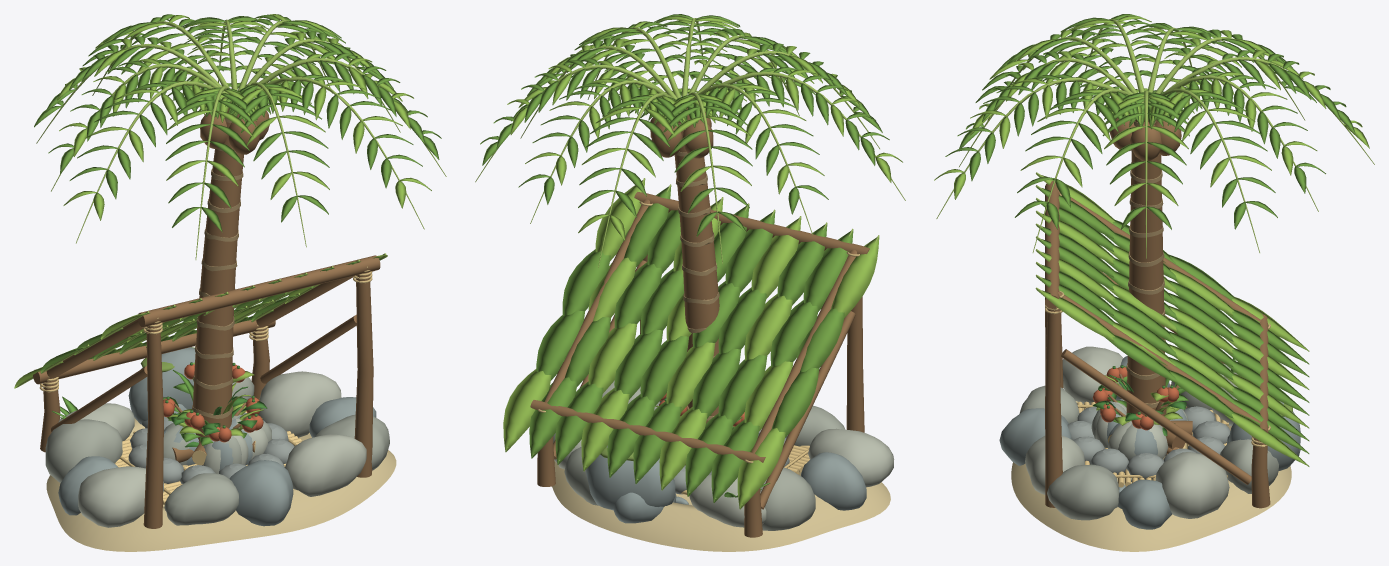
Rendered from survival-props-12.glb.
The picture shows the model from 3 angles, left to right: view 1: azimuth 30°, elevation 25°; view 2: azimuth 150°, elevation 25°; view 3: azimuth 270°, elevation 25°; orthographic projection.
Parts seen in each view (by area): view 1: crown_leaf, Shelter_bark, r12_Spring_Rocks_rockPale, crown_light, r12_Spring_Bed_sand, r12_Spring_Rocks_rockCool, r12_Spring_Rocks_rockWarm, stem_bark, crown_vein, Fire_stone, Shelter_leaf, stem_scar (+9 smaller); view 2: Shelter_leaf, Shelter_light, crown_leaf, Shelter_bark, crown_light, r12_Spring_Bed_sand, r12_Spring_Rocks_rockCool, crown_vein, stem_bark, r12_Spring_Rocks_rockPale, r12_Spring_Rocks_rockWarm, crown_bark (+1 smaller); view 3: crown_leaf, Shelter_leaf, Shelter_bark, Shelter_light, crown_light, r12_Spring_Bed_sand, r12_Spring_Rocks_rockPale, crown_vein, r12_Spring_Rocks_rockWarm, stem_bark, r12_Spring_Rocks_rockCool, Fire_stone (+5 smaller).
Boxes of the visible parts, bbox=[...] form: crown_leaf: bbox=[34, 14, 441, 232]; Shelter_bark: bbox=[33, 255, 380, 528]; r12_Spring_Rocks_rockPale: bbox=[58, 371, 366, 527]; crown_light: bbox=[57, 14, 431, 220]; r12_Spring_Bed_sand: bbox=[46, 418, 396, 551]; r12_Spring_Rocks_rockCool: bbox=[58, 347, 376, 526]; r12_Spring_Rocks_rockWarm: bbox=[45, 377, 389, 525]; stem_bark: bbox=[193, 102, 243, 440]; crown_vein: bbox=[36, 19, 446, 259]; Fire_stone: bbox=[128, 412, 294, 483]; Shelter_leaf: bbox=[41, 261, 360, 372]; stem_scar: bbox=[192, 117, 243, 442]; Shelter_leaf: bbox=[529, 186, 853, 502]; Shelter_light: bbox=[503, 179, 879, 509]; crown_leaf: bbox=[480, 14, 889, 236]; Shelter_bark: bbox=[530, 192, 869, 537]; crown_light: bbox=[507, 16, 902, 240]; r12_Spring_Bed_sand: bbox=[552, 460, 890, 551]; r12_Spring_Rocks_rockCool: bbox=[586, 445, 866, 523]; crown_vein: bbox=[475, 18, 905, 267]; stem_bark: bbox=[674, 108, 719, 423]; r12_Spring_Rocks_rockPale: bbox=[553, 397, 894, 527]; r12_Spring_Rocks_rockWarm: bbox=[564, 380, 845, 530]; crown_bark: bbox=[650, 112, 713, 158]; crown_leaf: bbox=[945, 14, 1355, 229]; Shelter_leaf: bbox=[1036, 187, 1309, 453]; Shelter_bark: bbox=[1045, 181, 1270, 508]; Shelter_light: bbox=[1036, 174, 1309, 466]; crown_light: bbox=[934, 15, 1369, 205]; r12_Spring_Bed_sand: bbox=[1011, 384, 1291, 551]; r12_Spring_Rocks_rockPale: bbox=[1025, 346, 1237, 518]; crown_vein: bbox=[936, 19, 1374, 258]; r12_Spring_Rocks_rockWarm: bbox=[1019, 363, 1278, 520]; stem_bark: bbox=[1126, 118, 1166, 415]; r12_Spring_Rocks_rockCool: bbox=[999, 356, 1300, 529]; Fire_stone: bbox=[1067, 399, 1230, 480].
Size of the model in its own units: 3.58 by 4.36 by 3.84.
